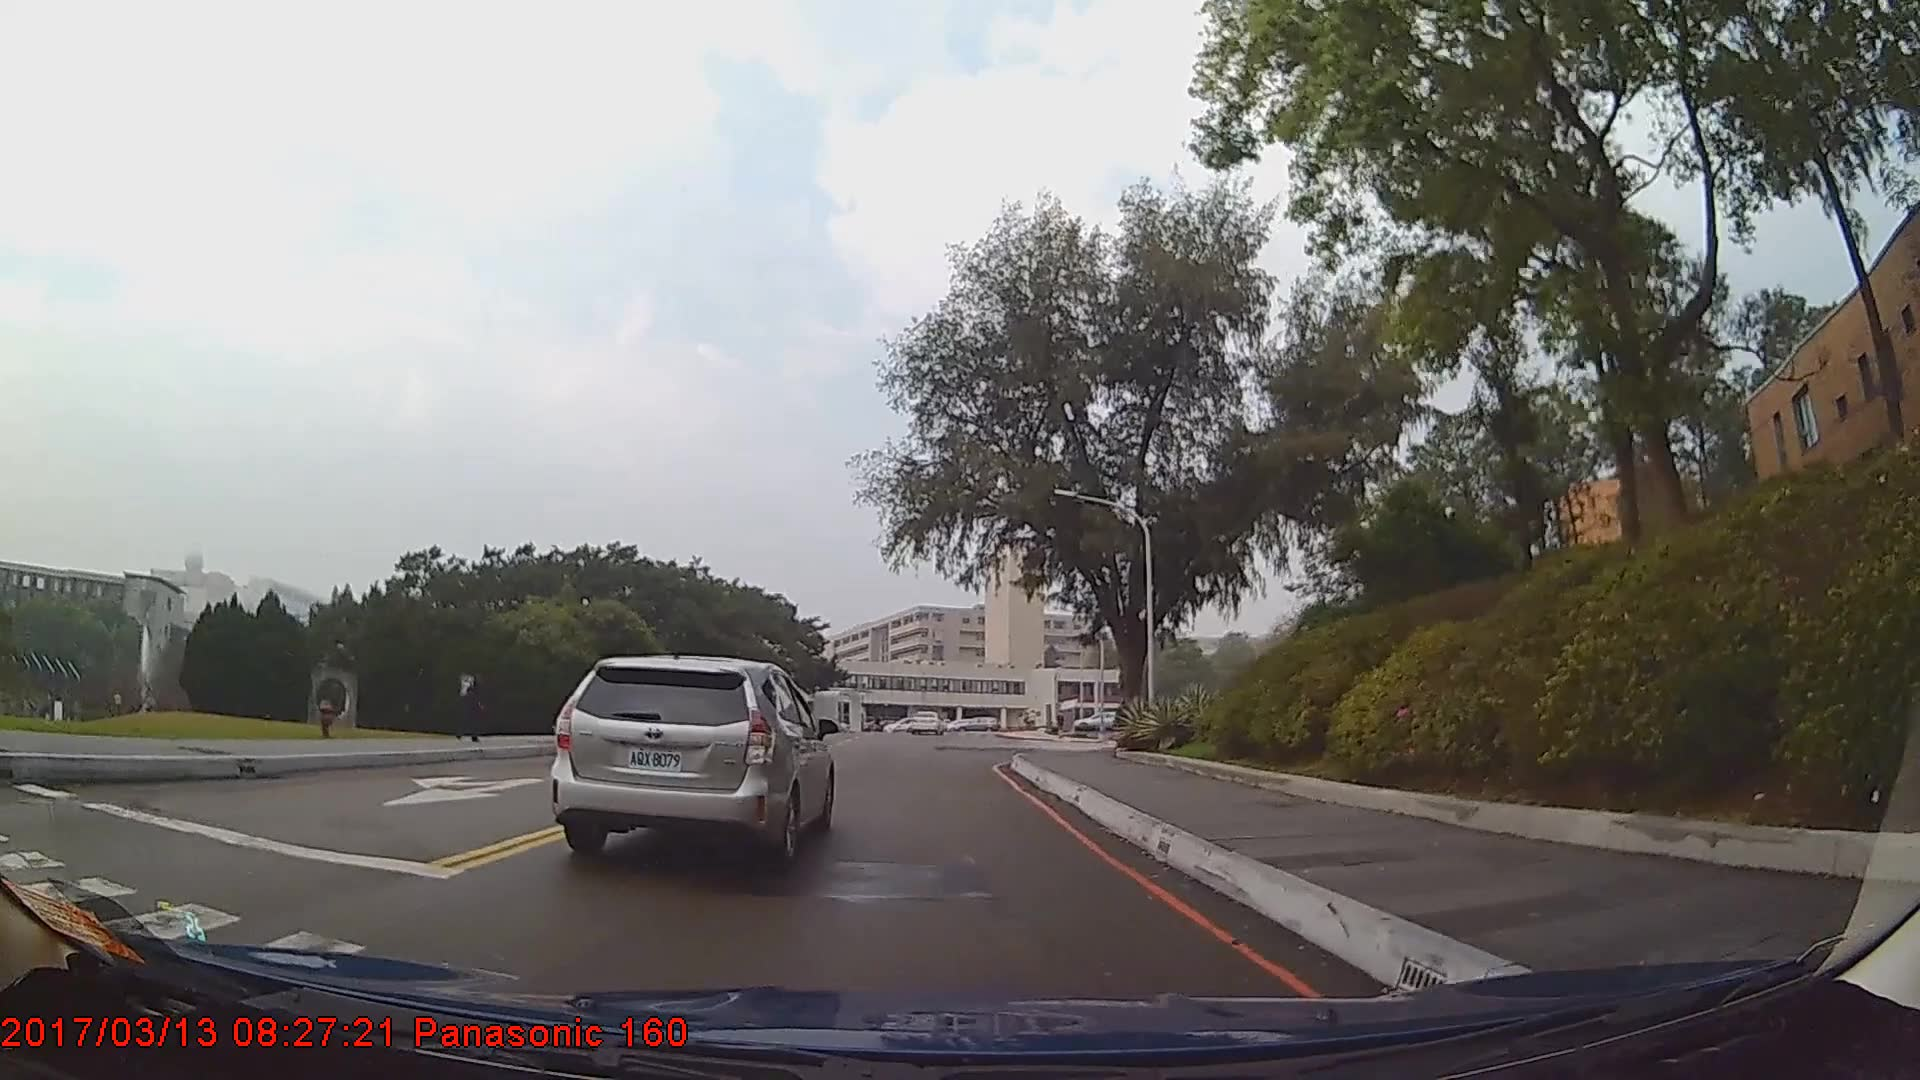pedestrian: (451, 653, 494, 747)
vehicle: (550, 652, 836, 867), (908, 706, 944, 733)
